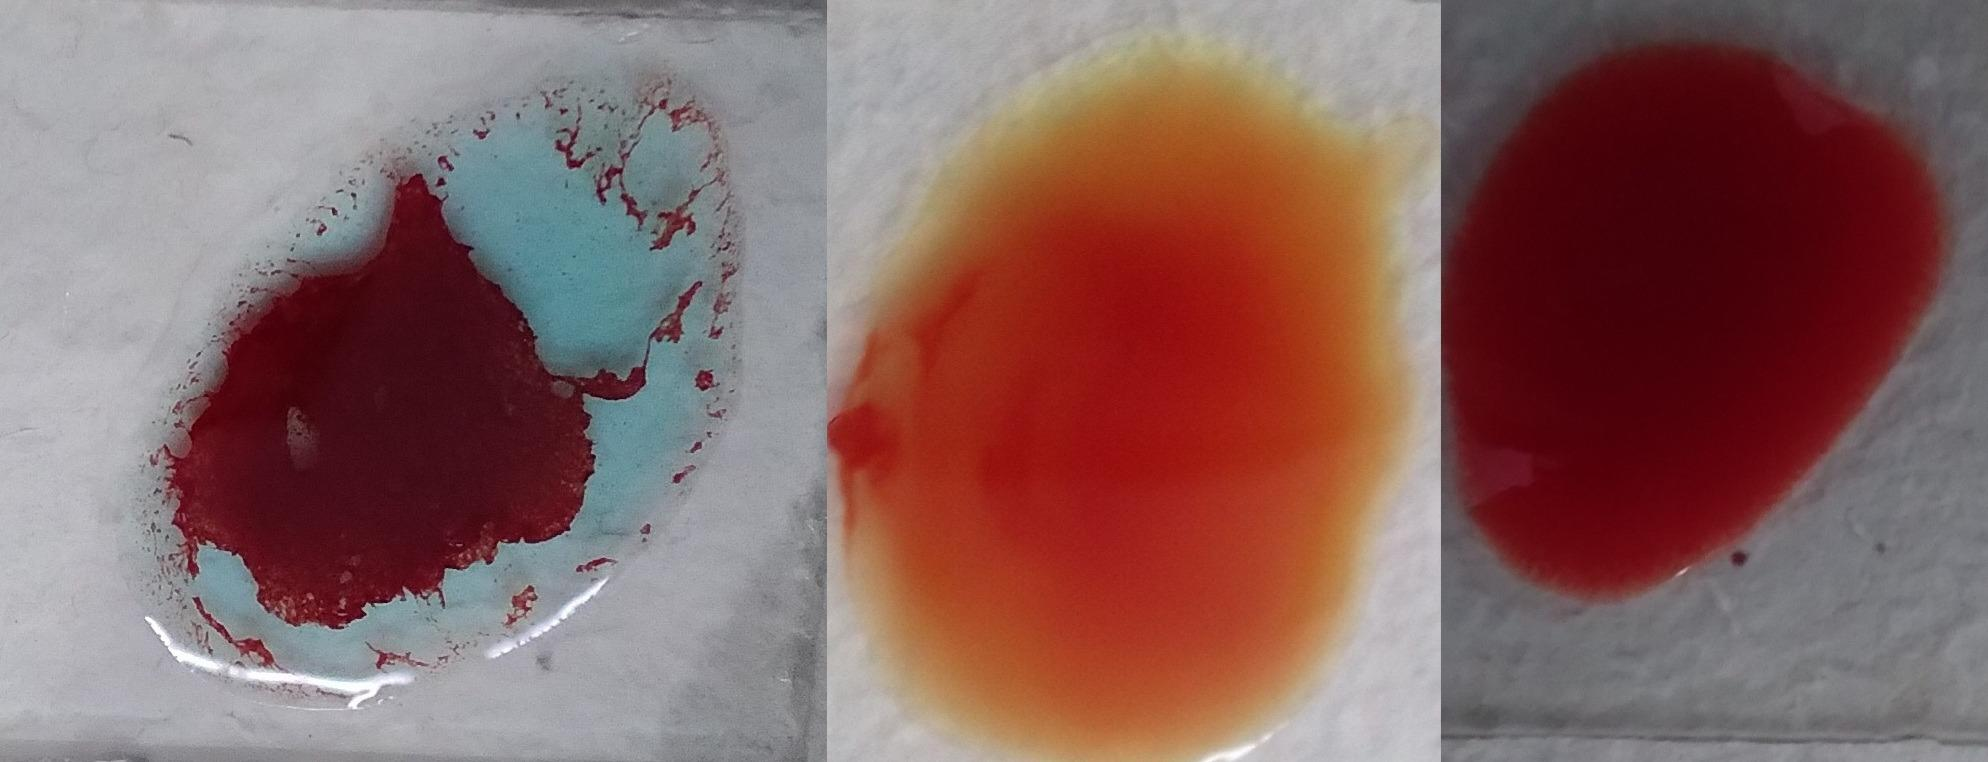A: (141, 80, 729, 700)
